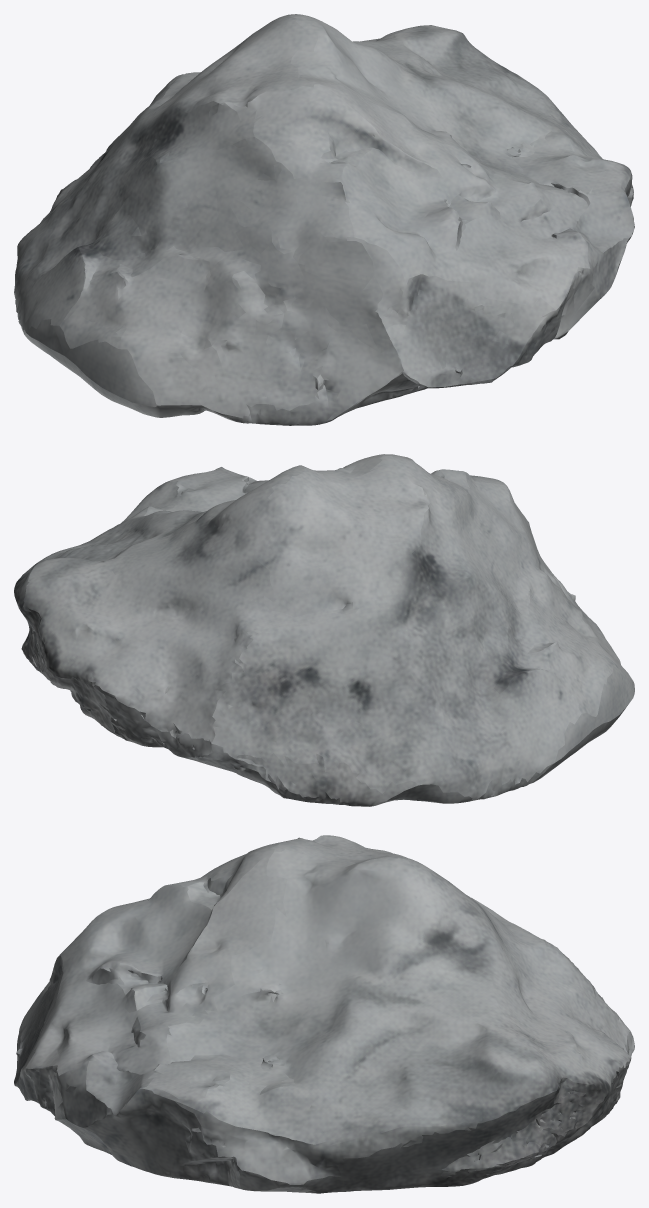
3 views of the same model, one above another, from view 1: azimuth 30°, elevation 25°; view 2: azimuth 150°, elevation 25°; view 3: azimuth 270°, elevation 25° (orthographic). The views are drawn at different scales.
Parts seen in each view (by area): view 1: world; view 2: world; view 3: world.
Boxes of the visible parts, x1,y1,x2,y2 form: world: (14, 14, 634, 425); world: (14, 454, 634, 806); world: (14, 835, 634, 1193).
Size of the model in its own units: 1.2 by 0.5575 by 1.2.
Materials: 1 (1 with a texture image).
